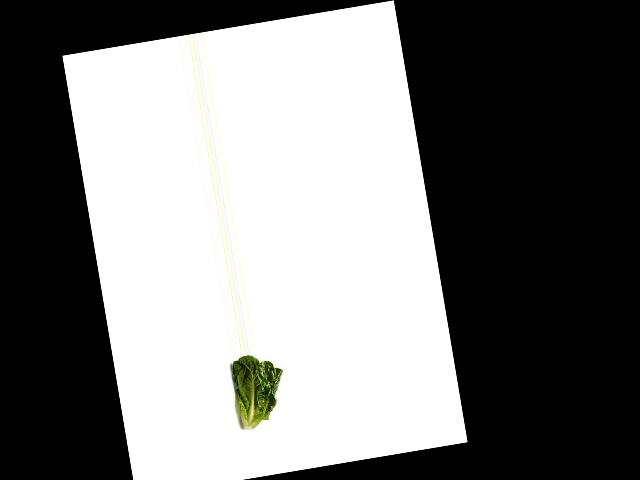lettuce: (218, 349, 292, 436)
